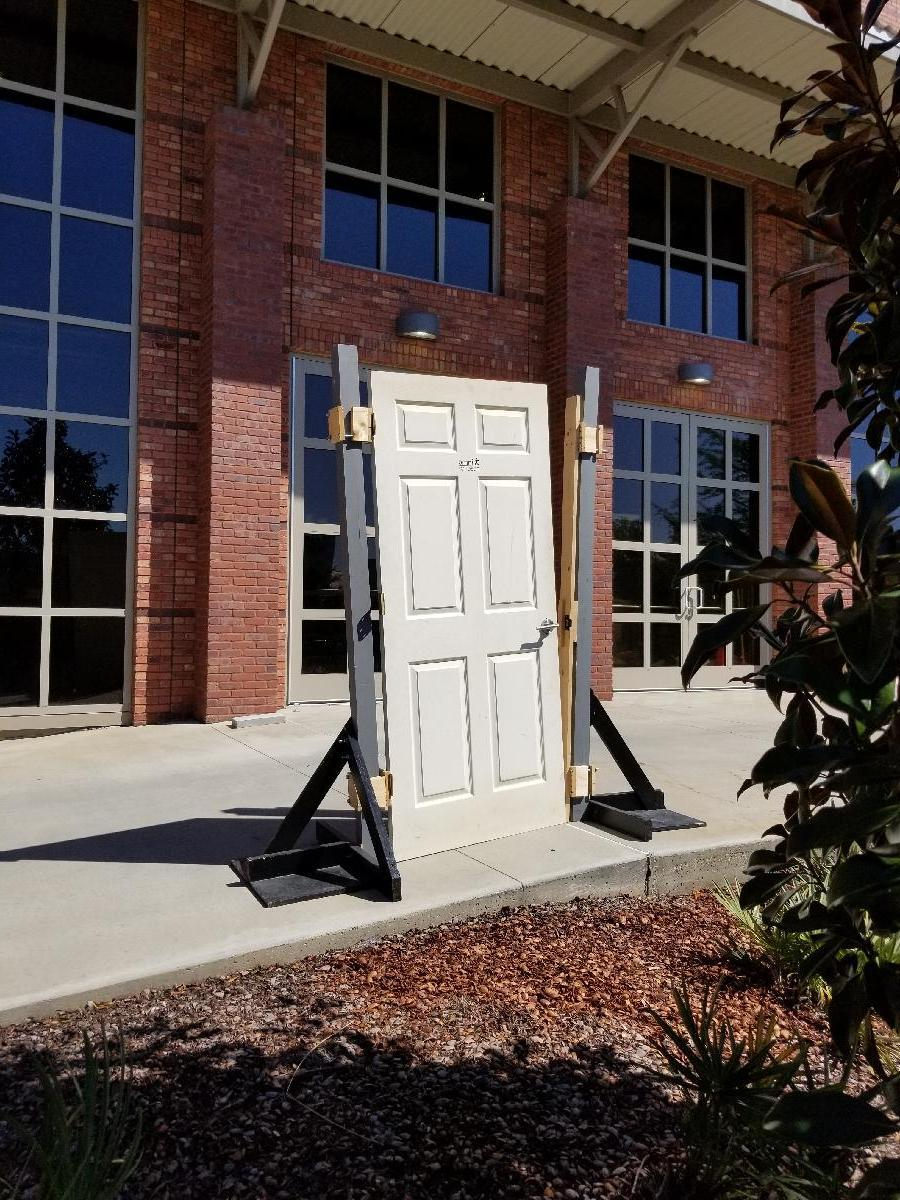door: (366, 369, 567, 862), (616, 406, 695, 699), (691, 411, 761, 693)
handle: (532, 618, 559, 636), (693, 583, 704, 612), (685, 582, 691, 610)
